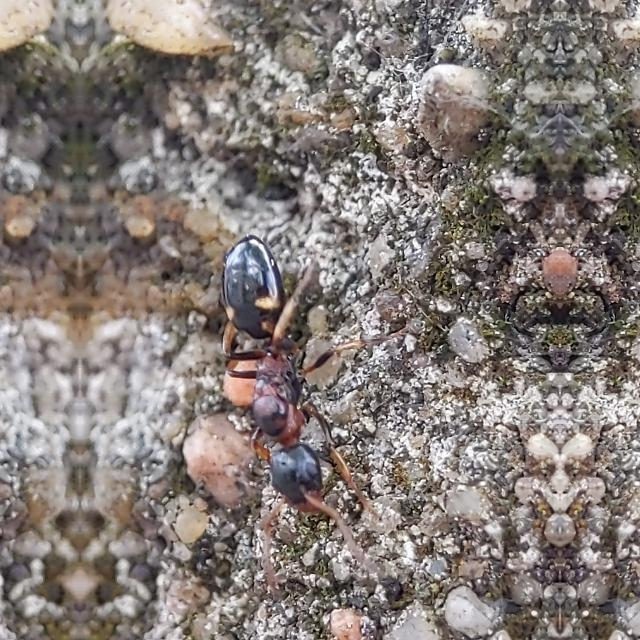Dolichoderus: (175, 182, 378, 570)
